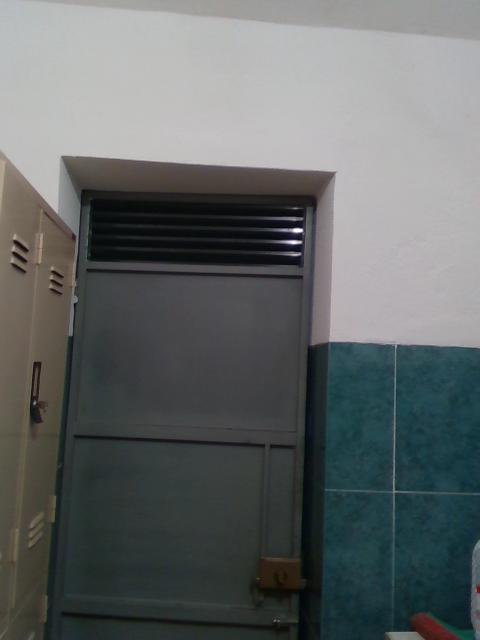door: (51, 188, 314, 640)
